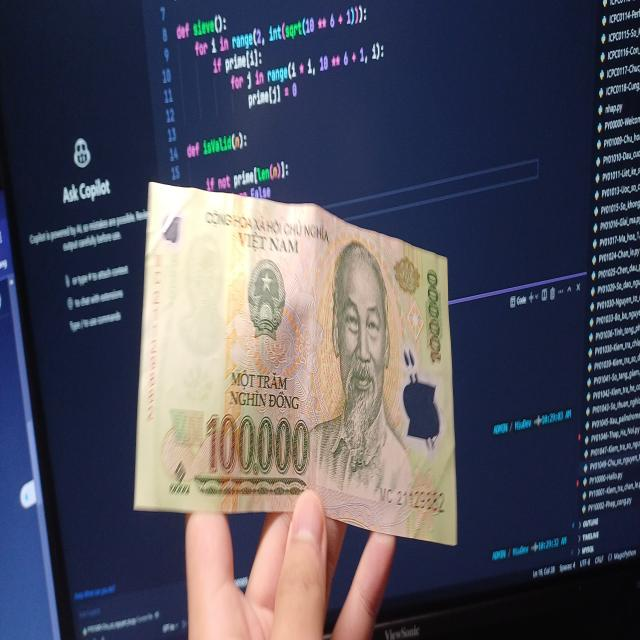100 000 VND: (133, 178, 459, 548)
